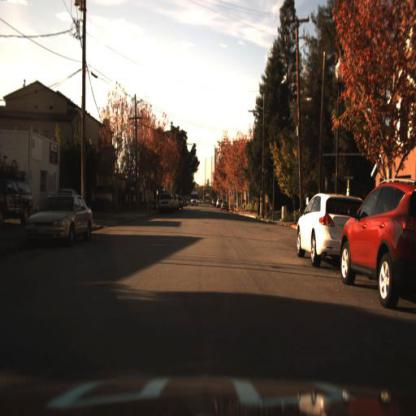car: (341, 177, 416, 313), (296, 192, 366, 267), (295, 190, 360, 268), (25, 188, 95, 245), (27, 195, 95, 246), (158, 192, 176, 215), (159, 192, 176, 214)
truck: (190, 190, 201, 211)
